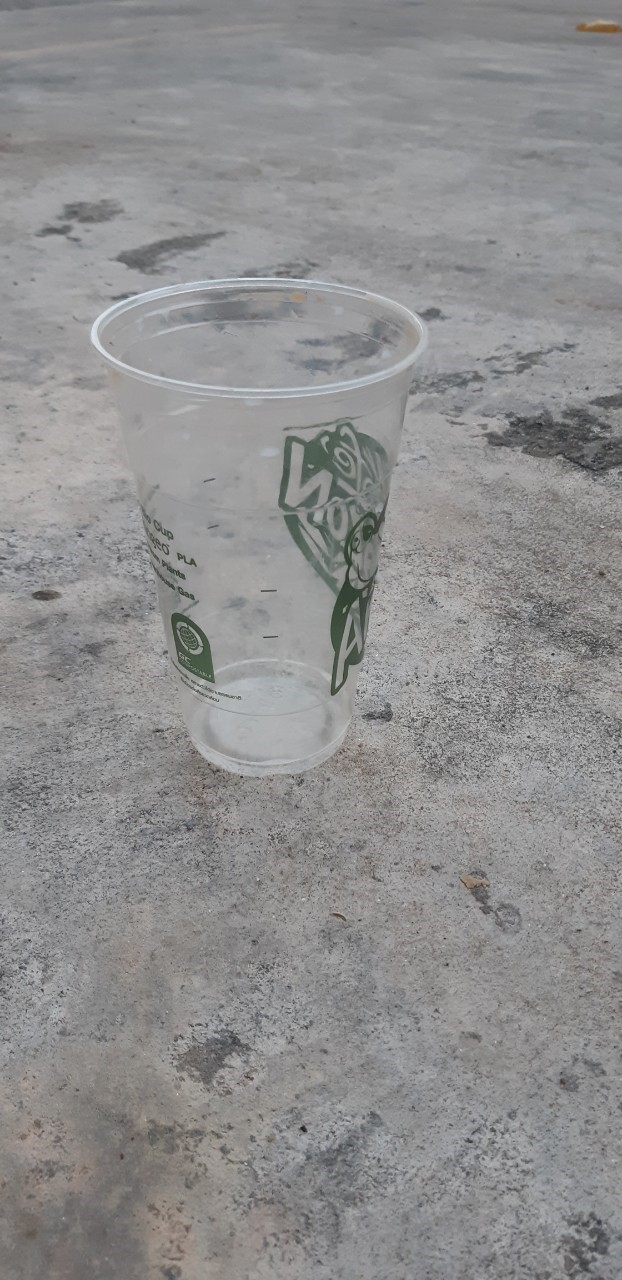PlasticCup: (90, 255, 430, 786)
